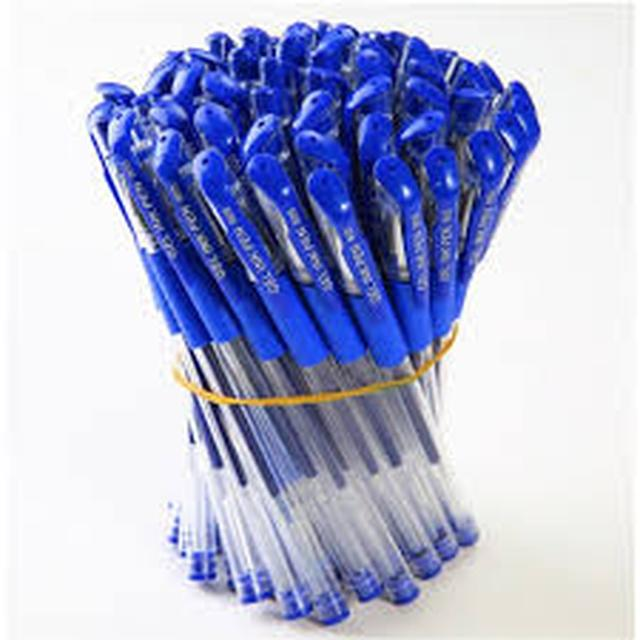pen: (77, 6, 549, 627)
